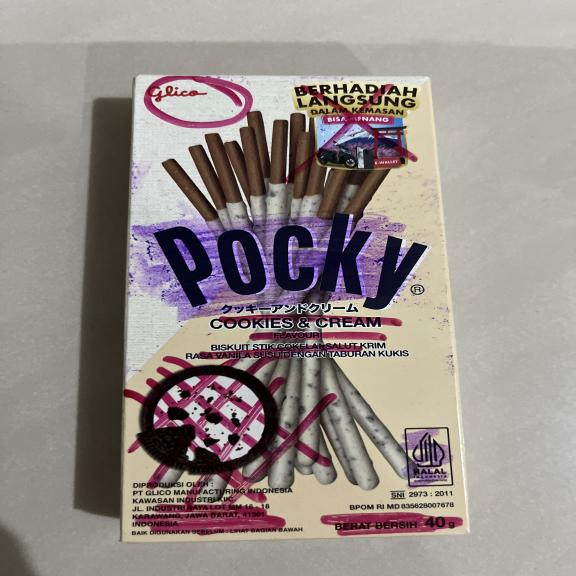Kertas: (120, 73, 470, 544)
